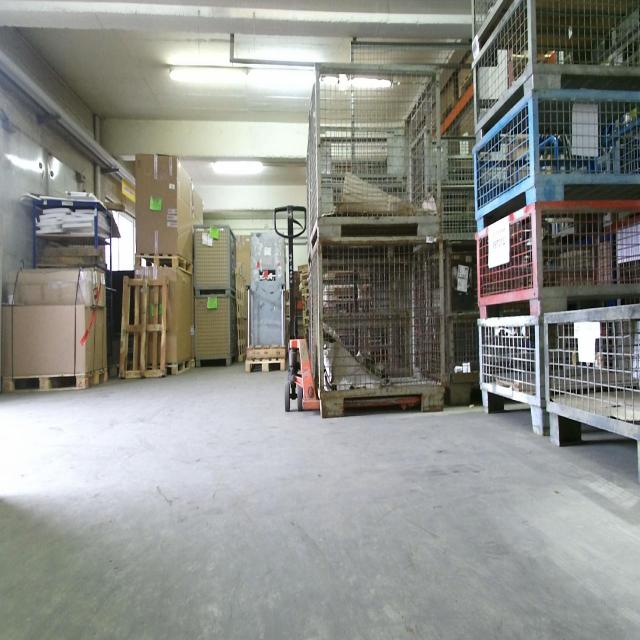pallet: (117, 276, 164, 377), (1, 364, 111, 398), (133, 250, 194, 277), (152, 357, 194, 383), (234, 269, 245, 361), (244, 354, 288, 375)
pallet_truck: (267, 199, 431, 414)
stillage: (310, 235, 448, 419), (308, 62, 442, 250), (472, 0, 639, 149), (474, 91, 639, 229), (474, 312, 638, 442), (438, 251, 569, 410), (474, 200, 639, 324), (302, 256, 429, 397), (541, 303, 639, 485), (408, 125, 480, 241), (192, 293, 239, 369), (471, 0, 530, 60), (192, 224, 237, 296), (306, 138, 311, 262)
